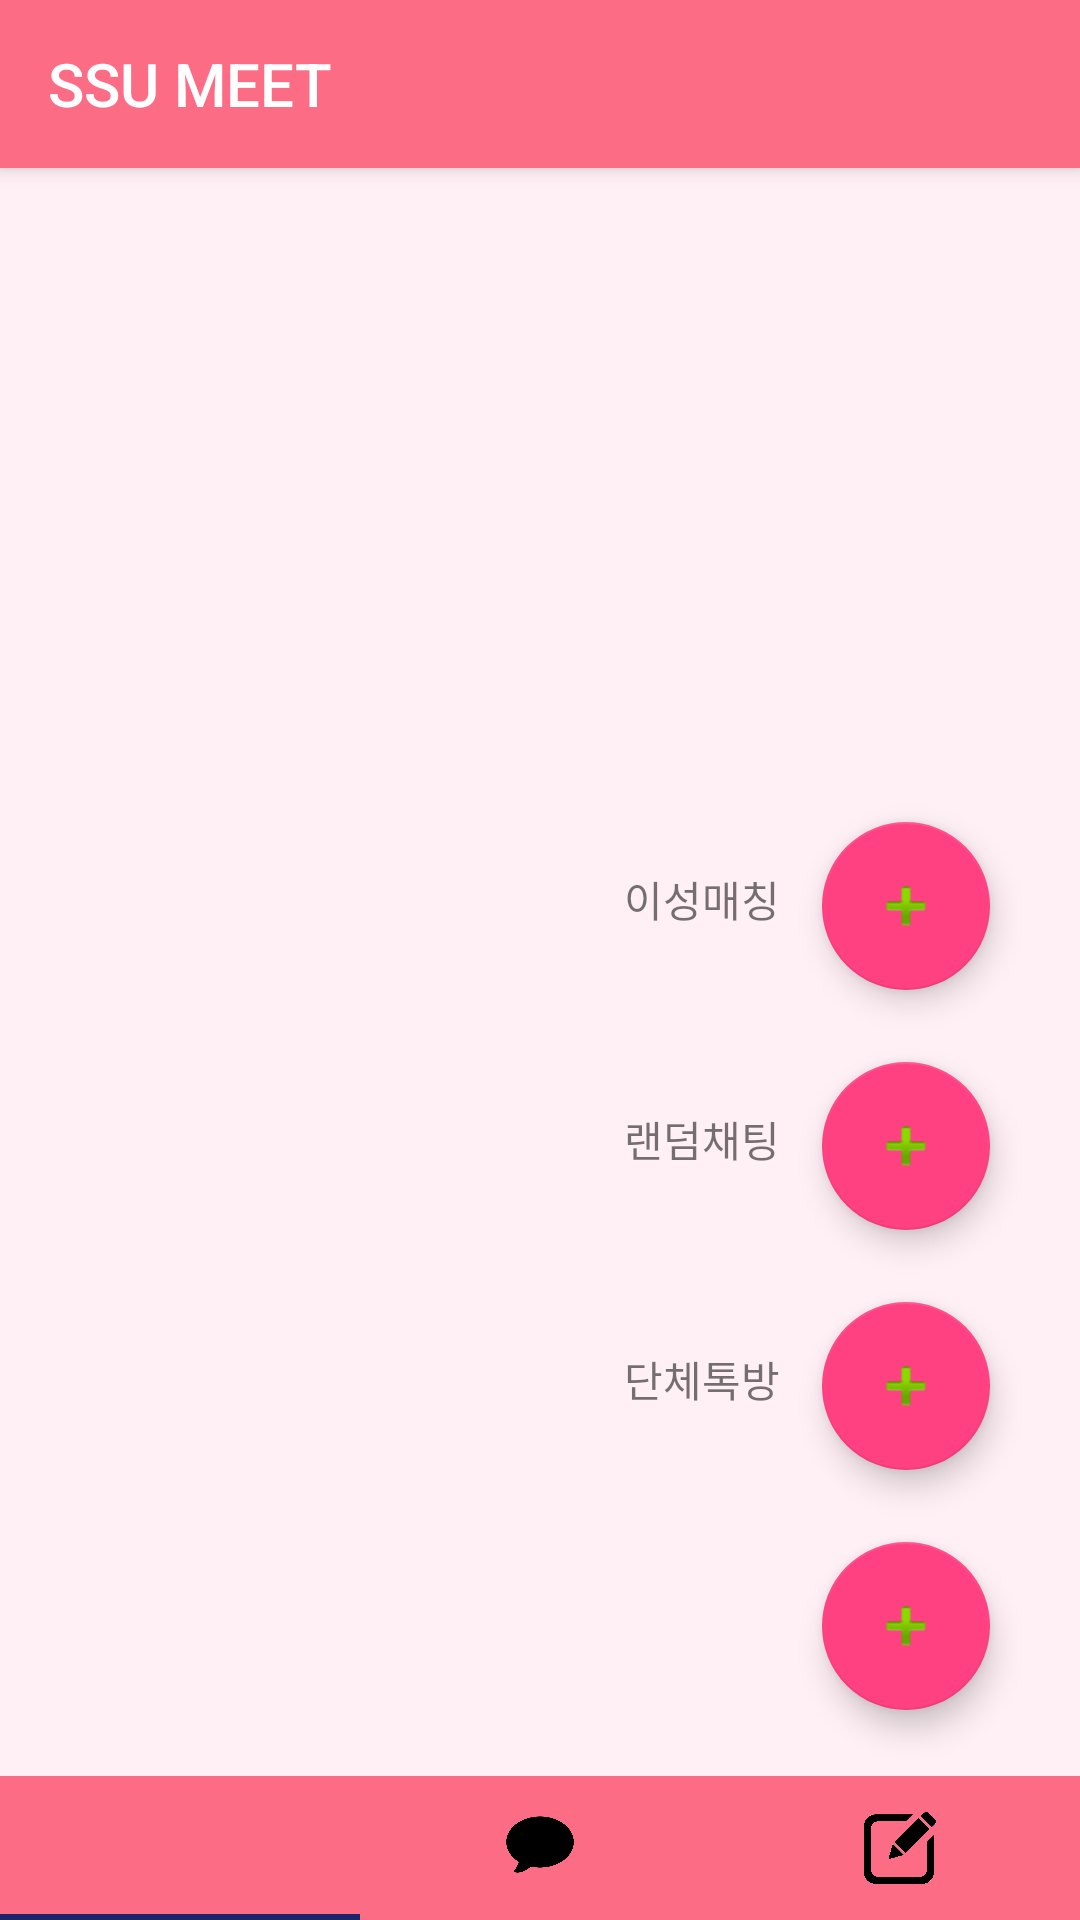

Locate icon controls on the screen. Image size 1080w x 1920h, boxes as BBox(x1, y1, x2, y2).
add: BBox(822, 822, 990, 990), BBox(822, 1062, 990, 1230), BBox(822, 1302, 990, 1470), BBox(822, 1542, 990, 1710)
